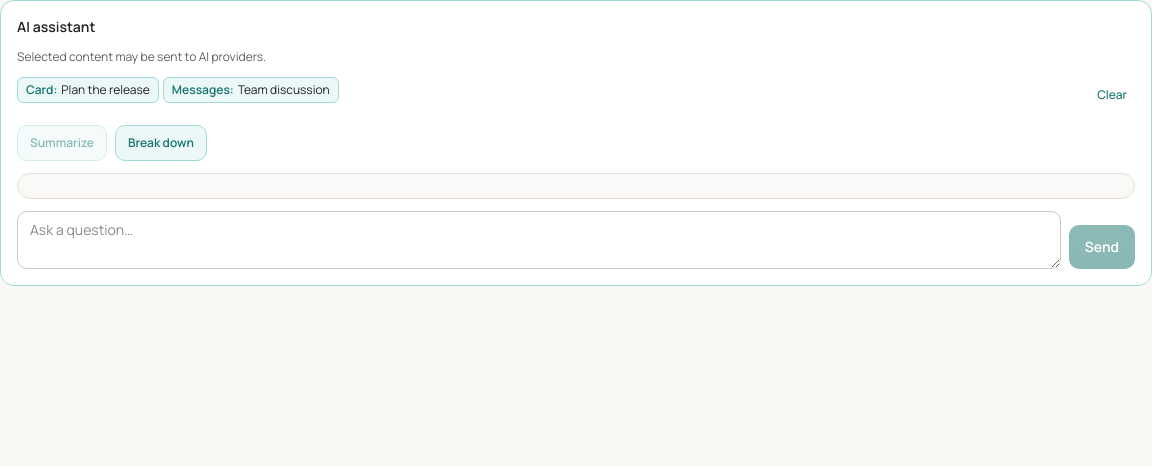
Test case: AiPanel › TC-AI-02: asks with selected contexts and excludes client-only labels from the request
Type "What is the plan?" into the text box labelled "Ask a question".
click(539, 240); type("What is the plan?")  # box [17, 211, 1061, 269]
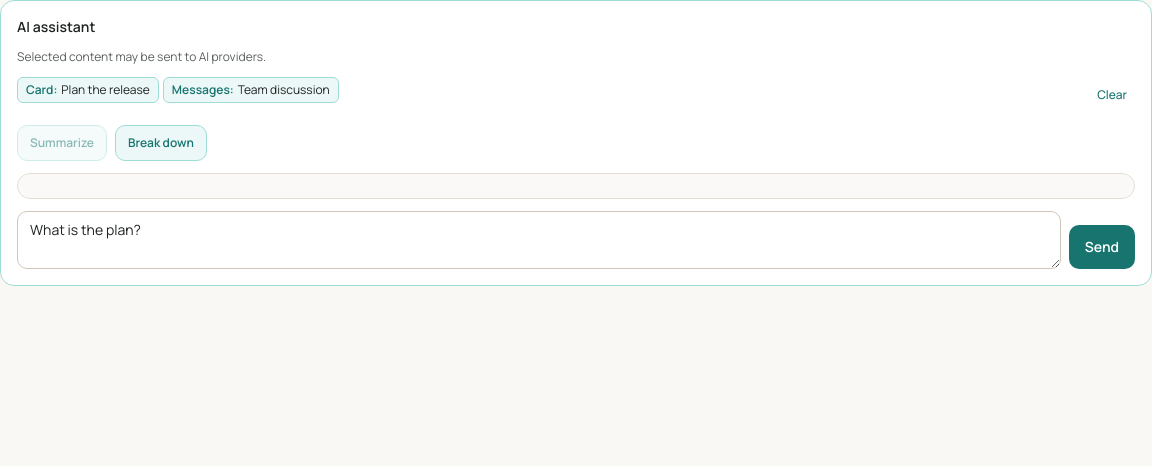
Expected: the button with aria-label "Ask AI" is enabled
Click the button with aria-label "Ask AI".
click(1102, 247)  # box [1069, 225, 1135, 269]
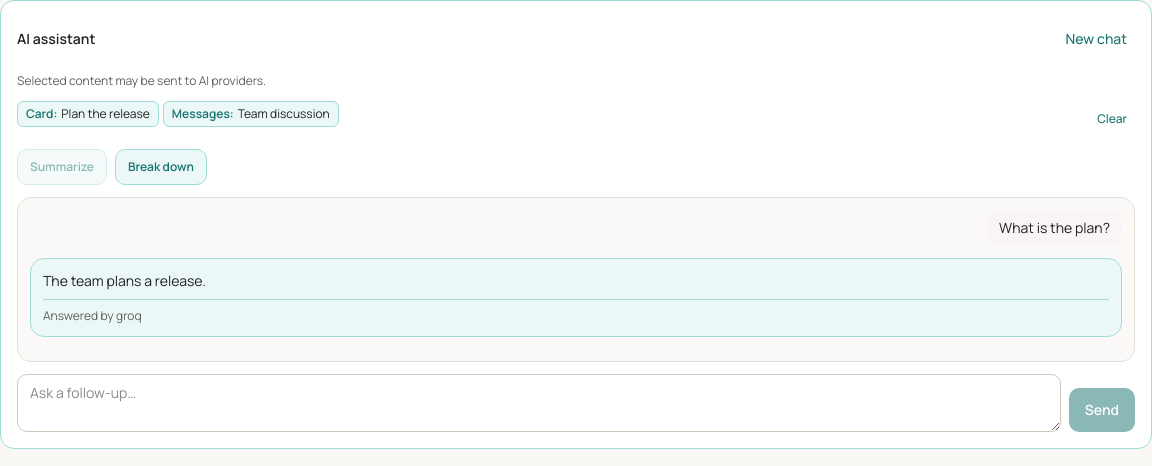
Expected: the element named "AI answer" shows "The team plans a release.", [43, 271, 206, 290]
